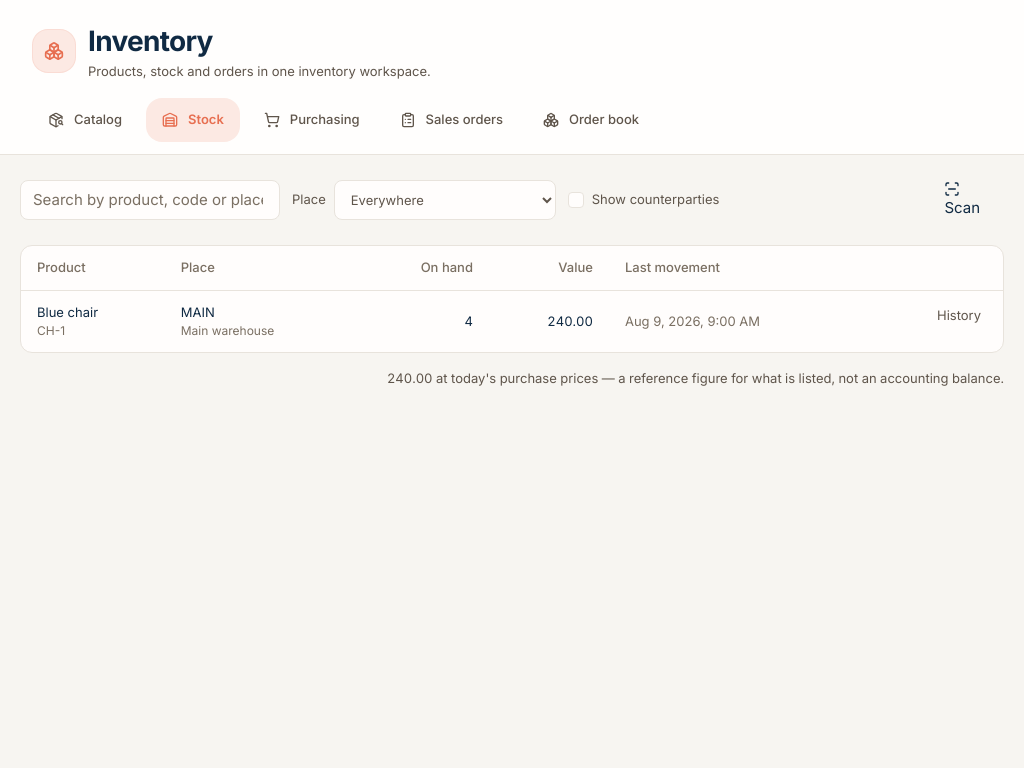
the stock screen › the counterparties are off until asked for, and asking says why
The image size is (1024, 768).
Expected: the text "Blue chair" is shown, [37,304,98,320]
Click the checkbox labelled "Show counterparties". click: (644, 200)
box: [568,190,719,210]
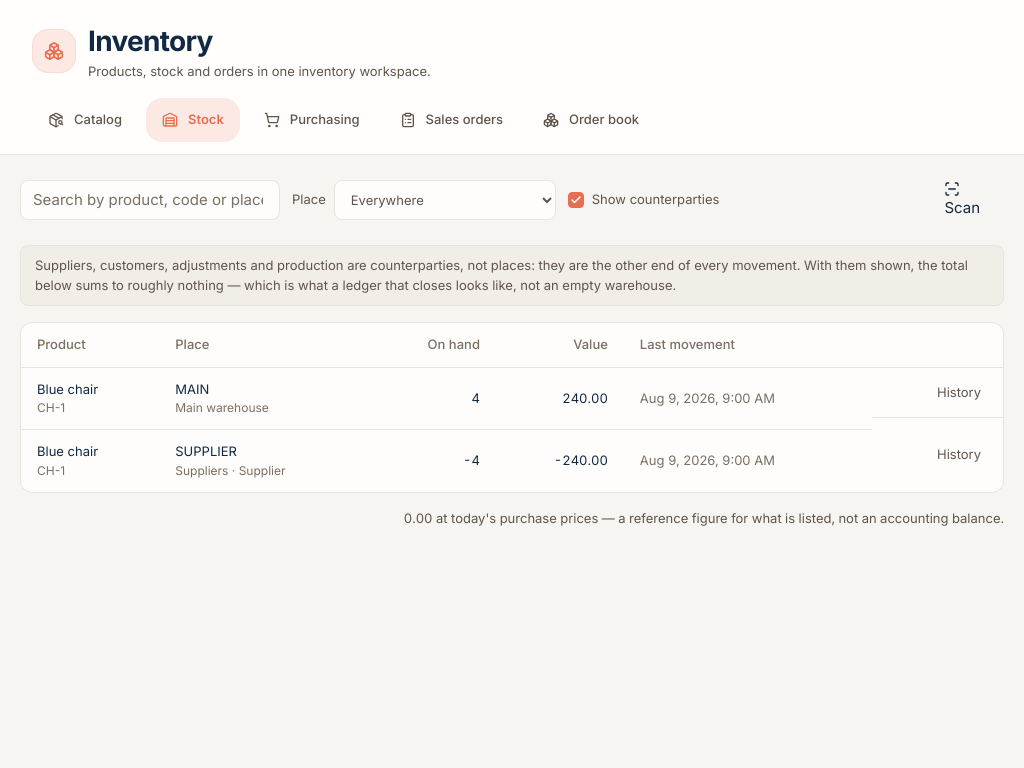
Expected: the text "Suppliers, customers, adjustments and production are counterparties, not places: they are the other end of every movemen" is shown, [35,257,968,292]
Expected: the text "SUPPLIER" is shown, [175,443,237,459]
